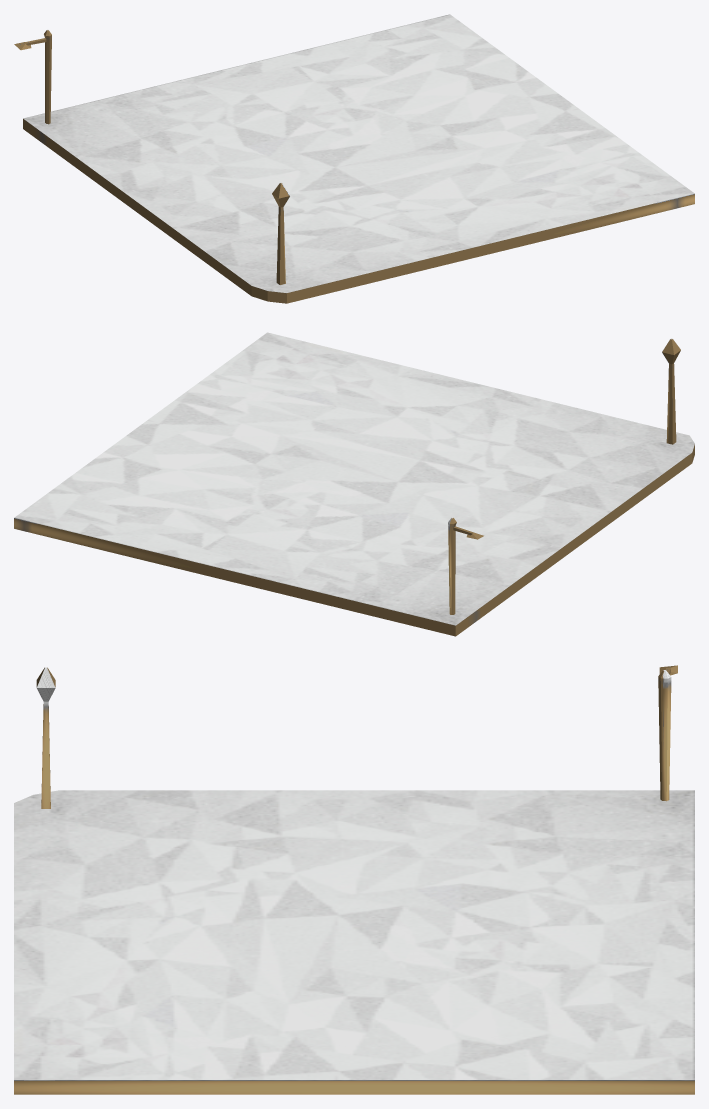
3 renders of one model, top to bottom at view 1: azimuth 30°, elevation 25°; view 2: azimuth 150°, elevation 25°; view 3: azimuth 270°, elevation 25°, orthographic. The views are drawn at different scales.
Visible parts, largest first — view 1: collision; view 2: collision; view 3: collision.
Part boxes in pixels (x1=…): collision: x1=14, y1=14, x2=694, y2=303; collision: x1=14, y1=332, x2=694, y2=636; collision: x1=14, y1=665, x2=694, y2=1094.
Size of the model in its own units: 49.52 by 11.86 by 47.52.
1 material, 1 textured.
